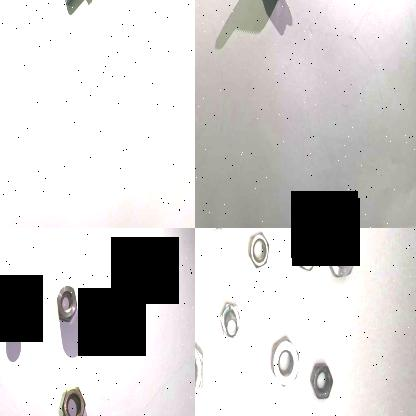Bolts: (214, 294, 244, 348), (195, 332, 204, 410), (60, 0, 94, 13), (208, 228, 224, 237)
NUTS: (270, 332, 304, 393), (323, 228, 357, 285), (306, 353, 334, 403), (294, 228, 320, 277), (248, 228, 274, 276), (55, 280, 77, 326), (59, 383, 85, 416), (3, 302, 22, 336)
